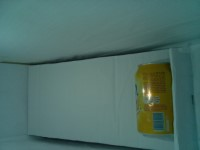kaleng: (134, 61, 173, 137)
